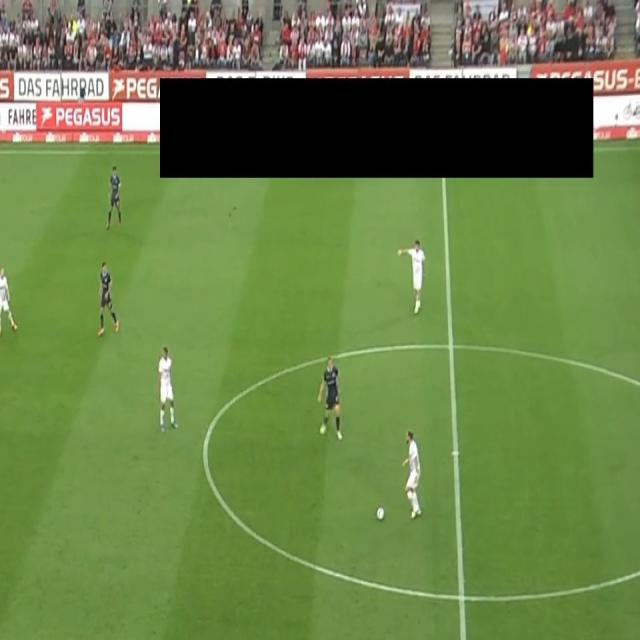ball: (375, 505, 385, 523)
